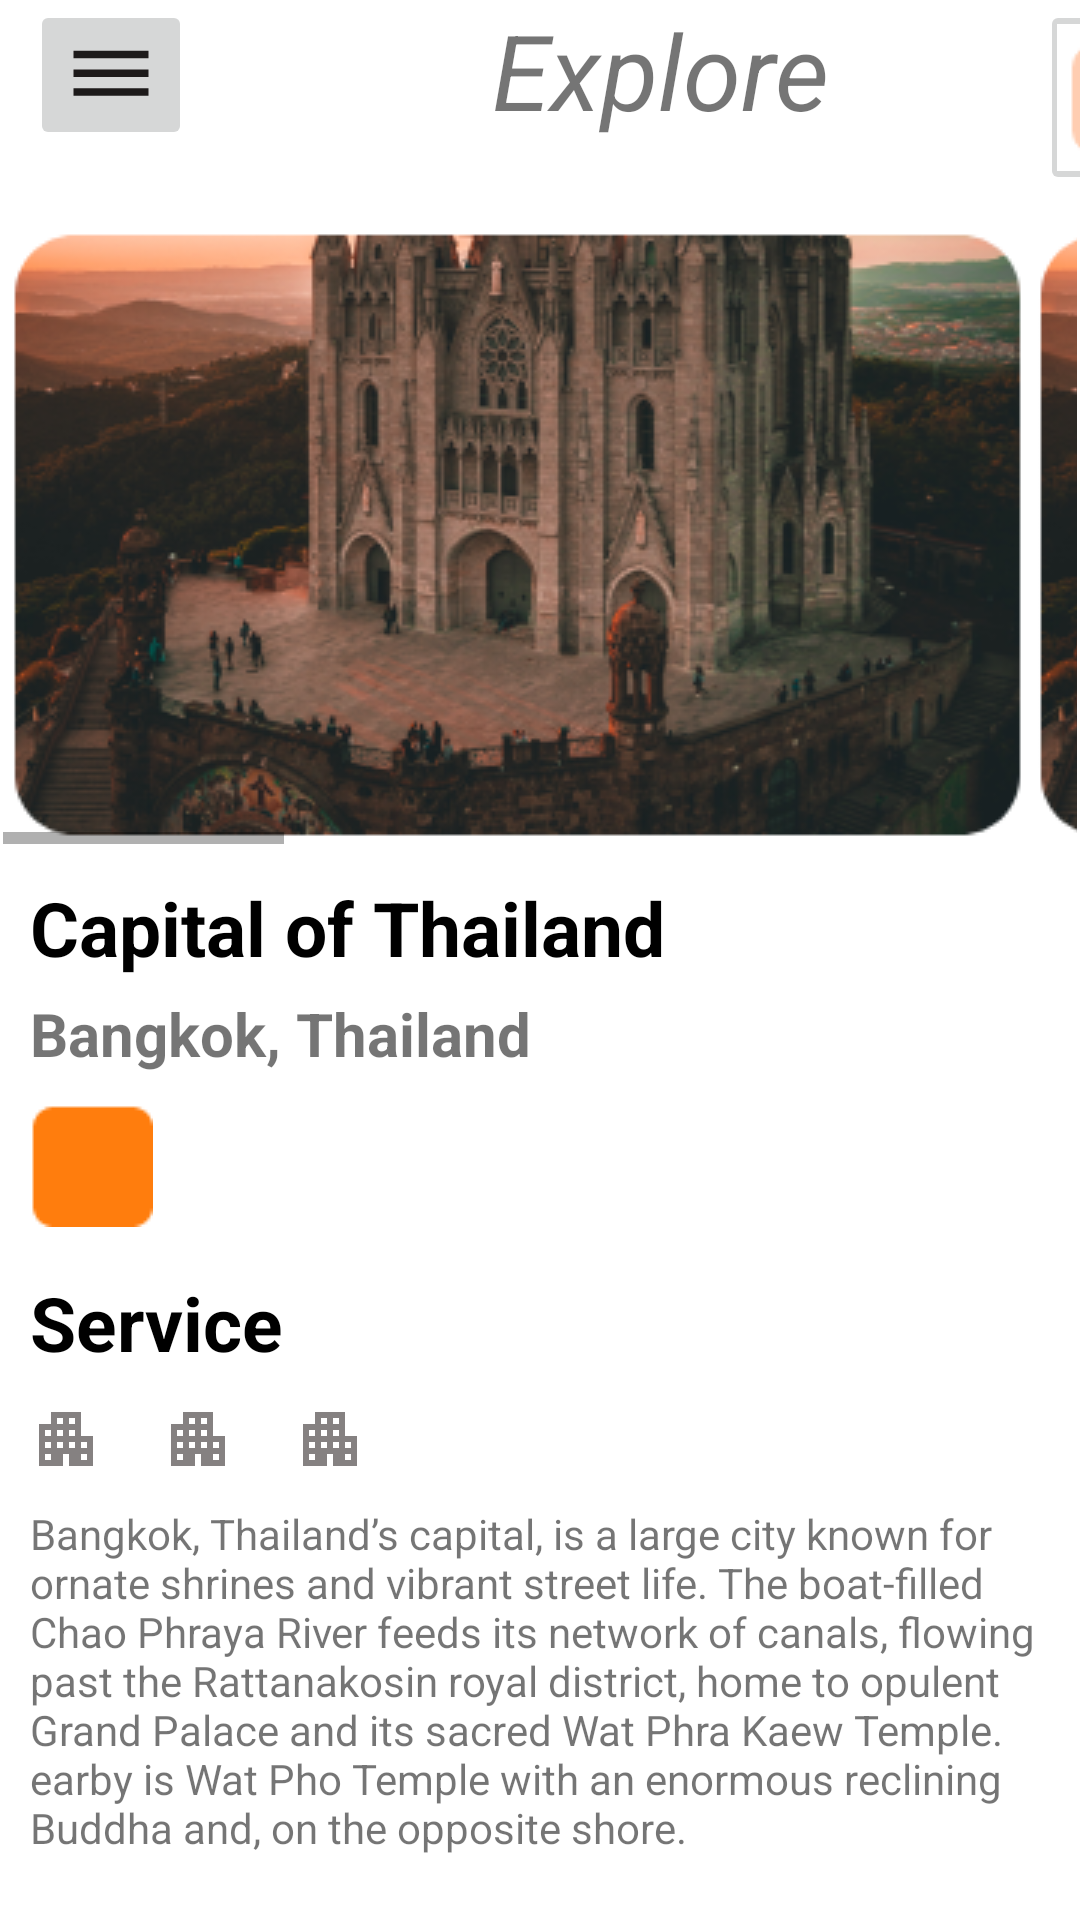

Icons on this 1080px x 1920px Android screen, each with its box as (left=x1, top=y1, right=x2, bottom=y2):
dehaze: (left=42, top=18, right=180, bottom=132)
